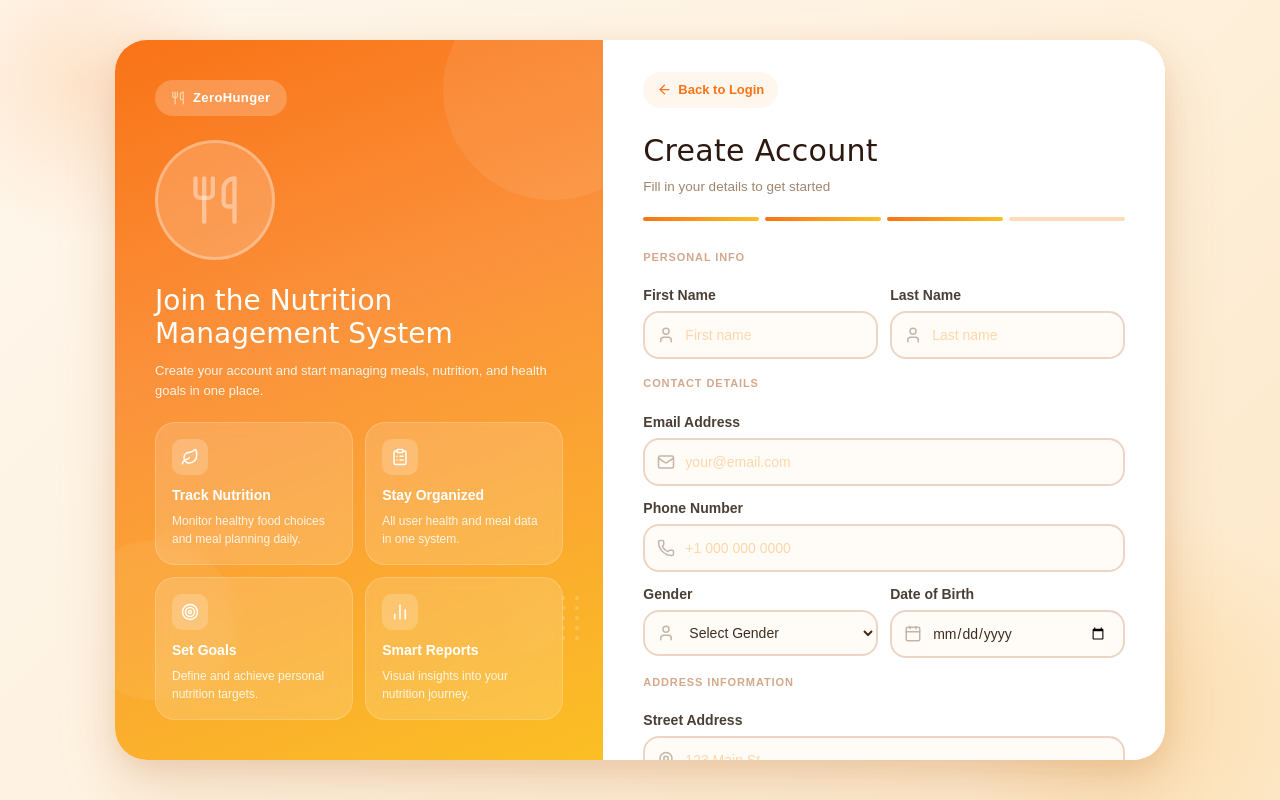
RegisterPage › failed registration shows error from api
This screenshot has width=1280, height=800.
Type "John" into the field with placeholder "First name" at (761, 335), box x1=643 y1=311 x2=878 y2=359
Type "Doe" into the field with placeholder "Last name" at (1008, 335), box x1=890 y1=311 x2=1125 y2=359
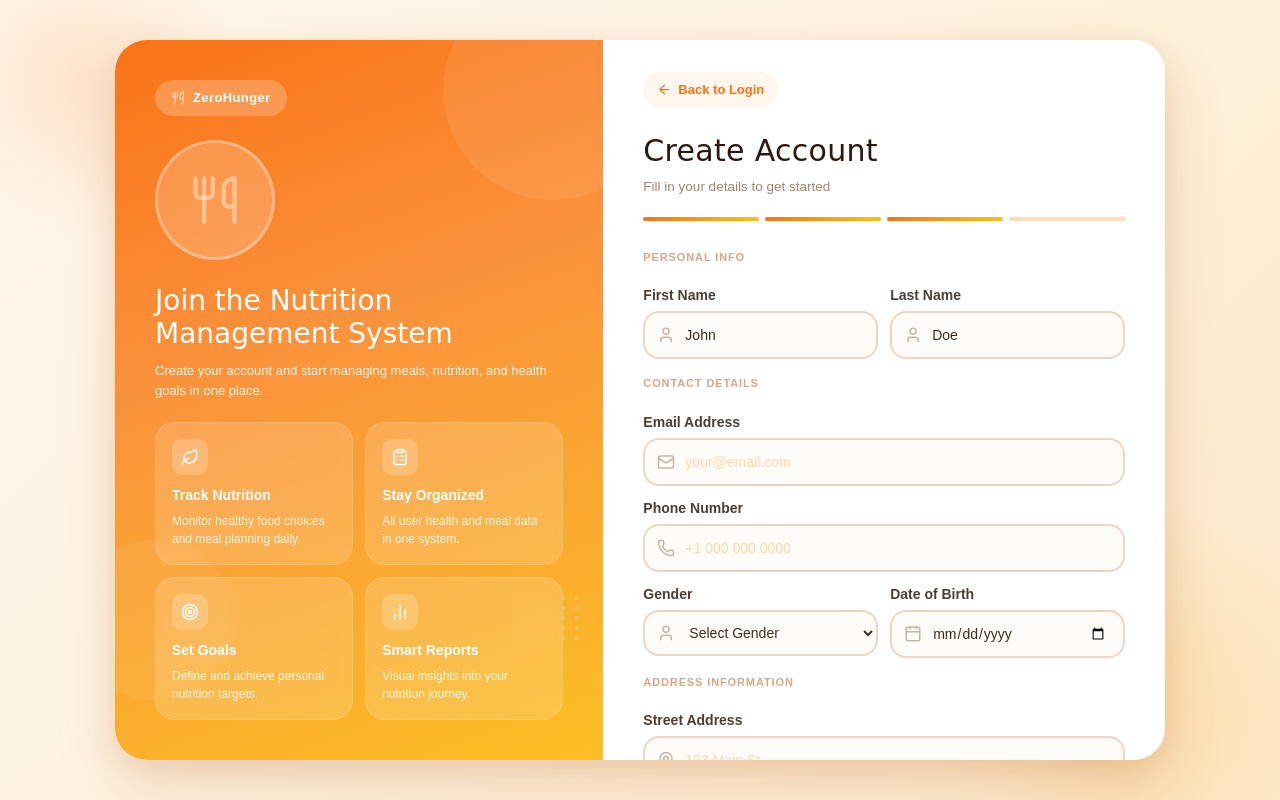
Type "john@mail.com" into the field with placeholder "your@email.com" at (884, 462), box x1=643 y1=438 x2=1125 y2=486
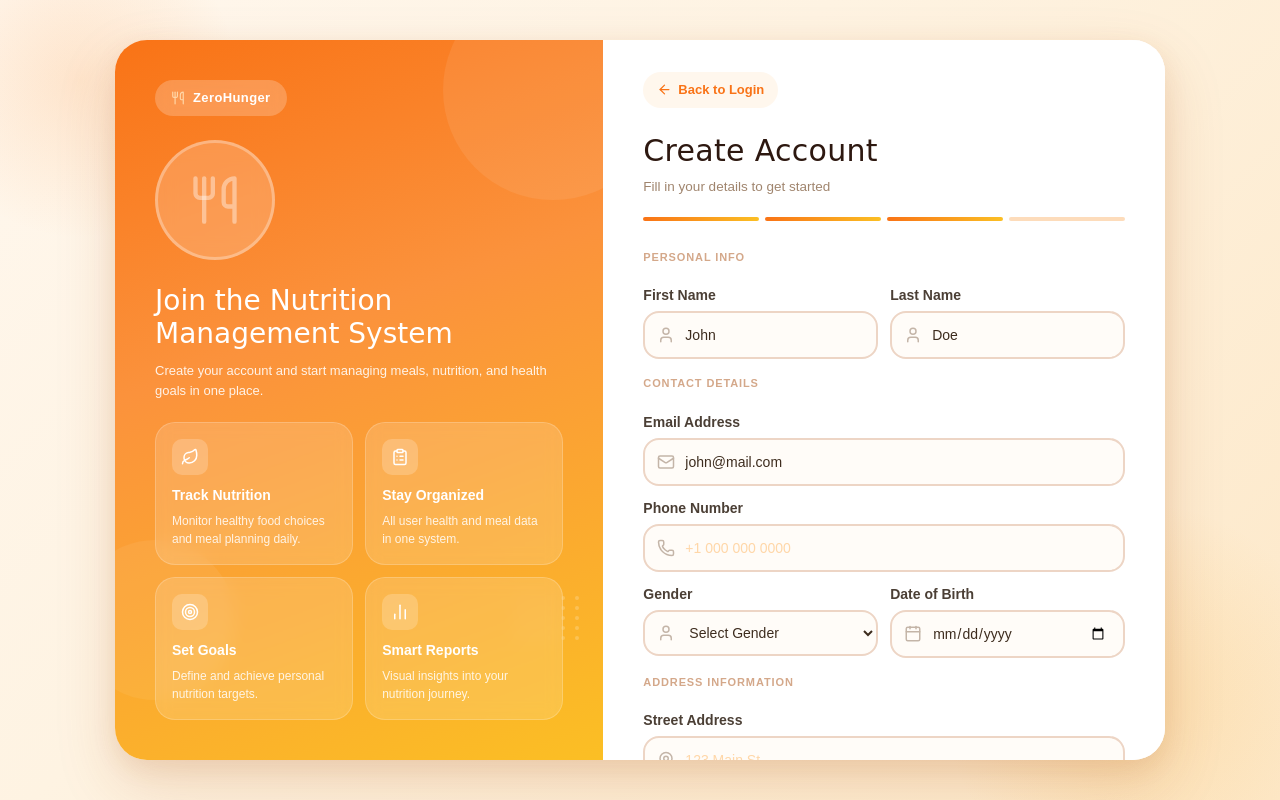
Type "1234567890" into the field with placeholder "+1 000 000 0000" at (884, 548), box x1=643 y1=524 x2=1125 y2=572
(page scrolled)
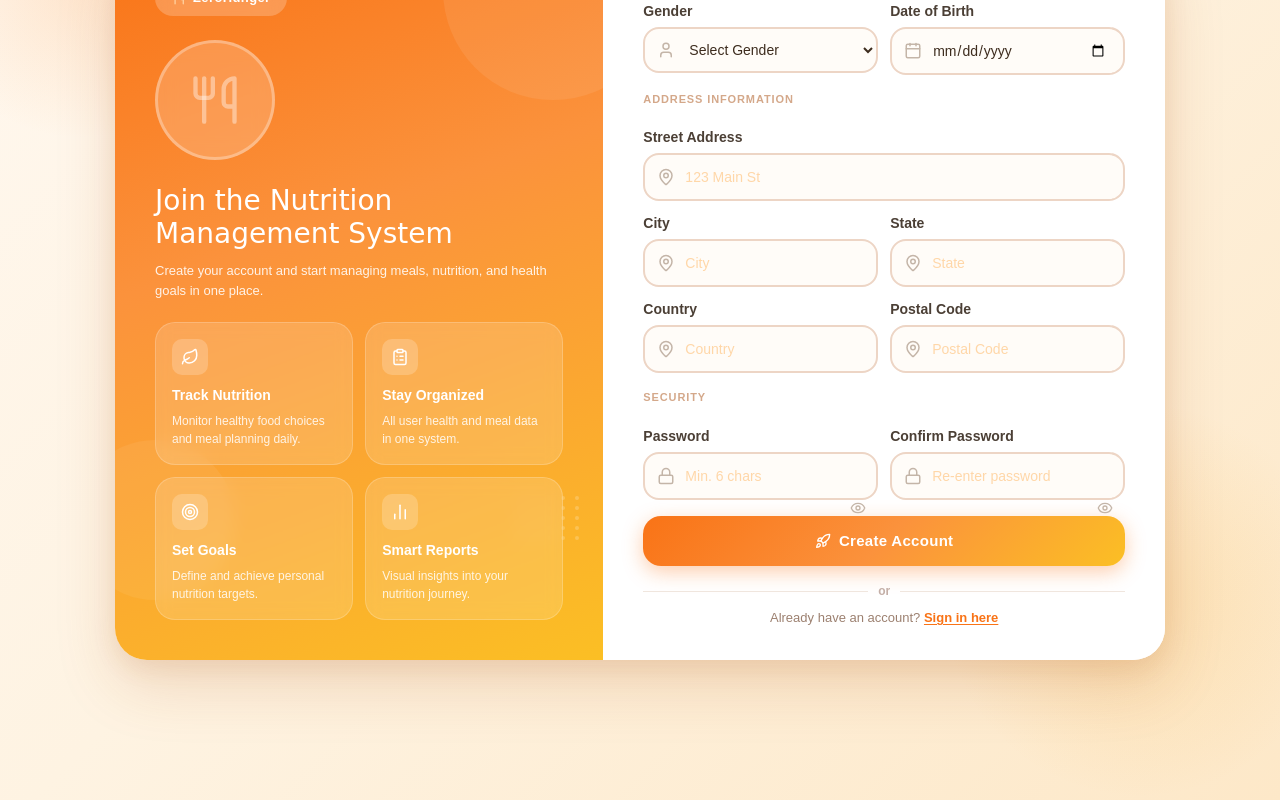
Type "password123" into the password field with placeholder "Min. 6 chars" at (761, 476), box x1=643 y1=452 x2=878 y2=500
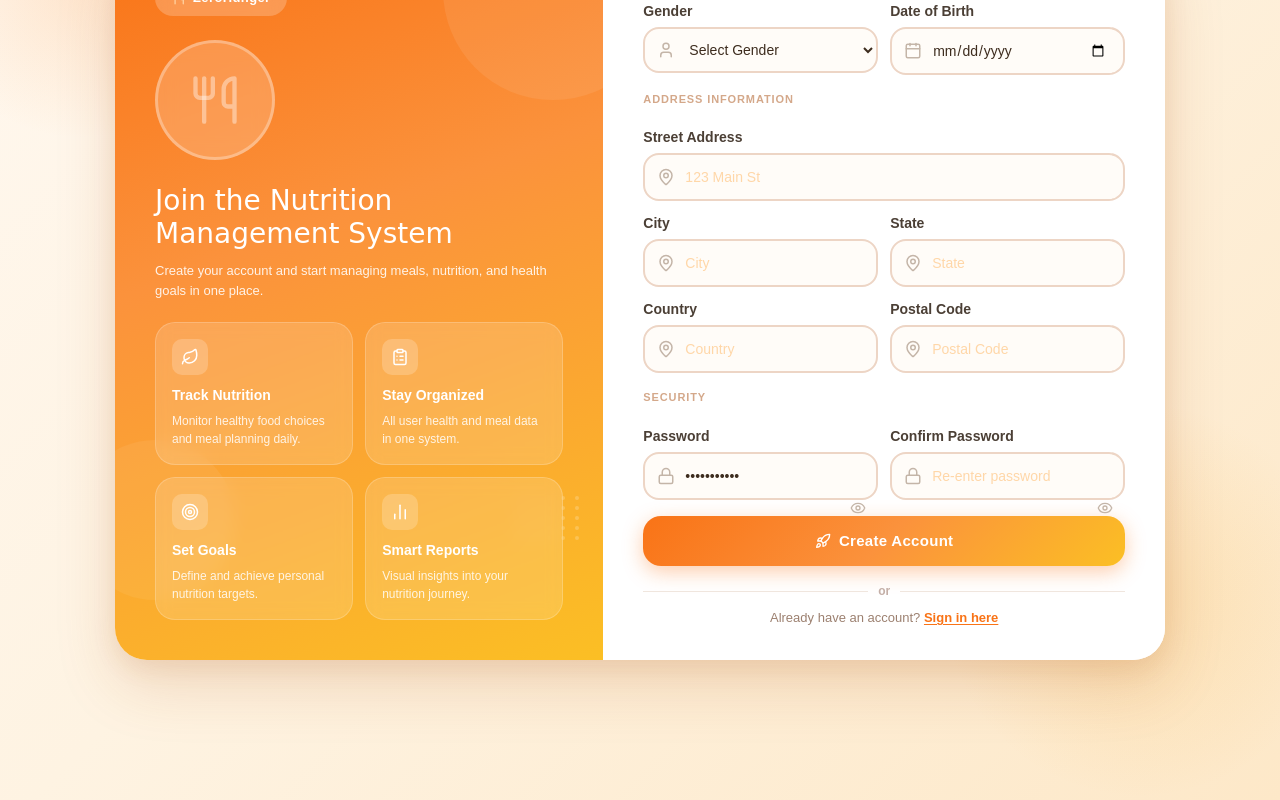
Type "password123" into the password field with placeholder "Re-enter password" at (1008, 476), box x1=890 y1=452 x2=1125 y2=500
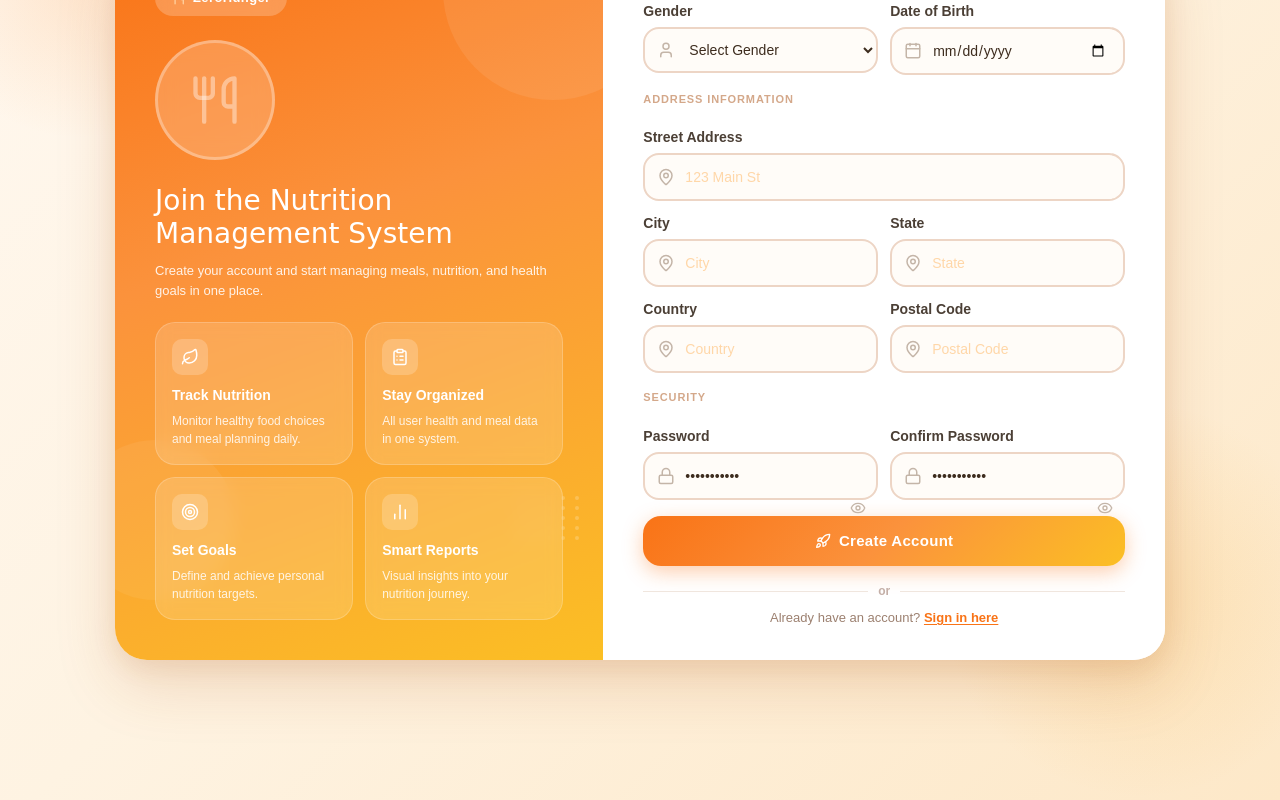
Click the button "Create Account" at (884, 541), box x1=643 y1=516 x2=1125 y2=566
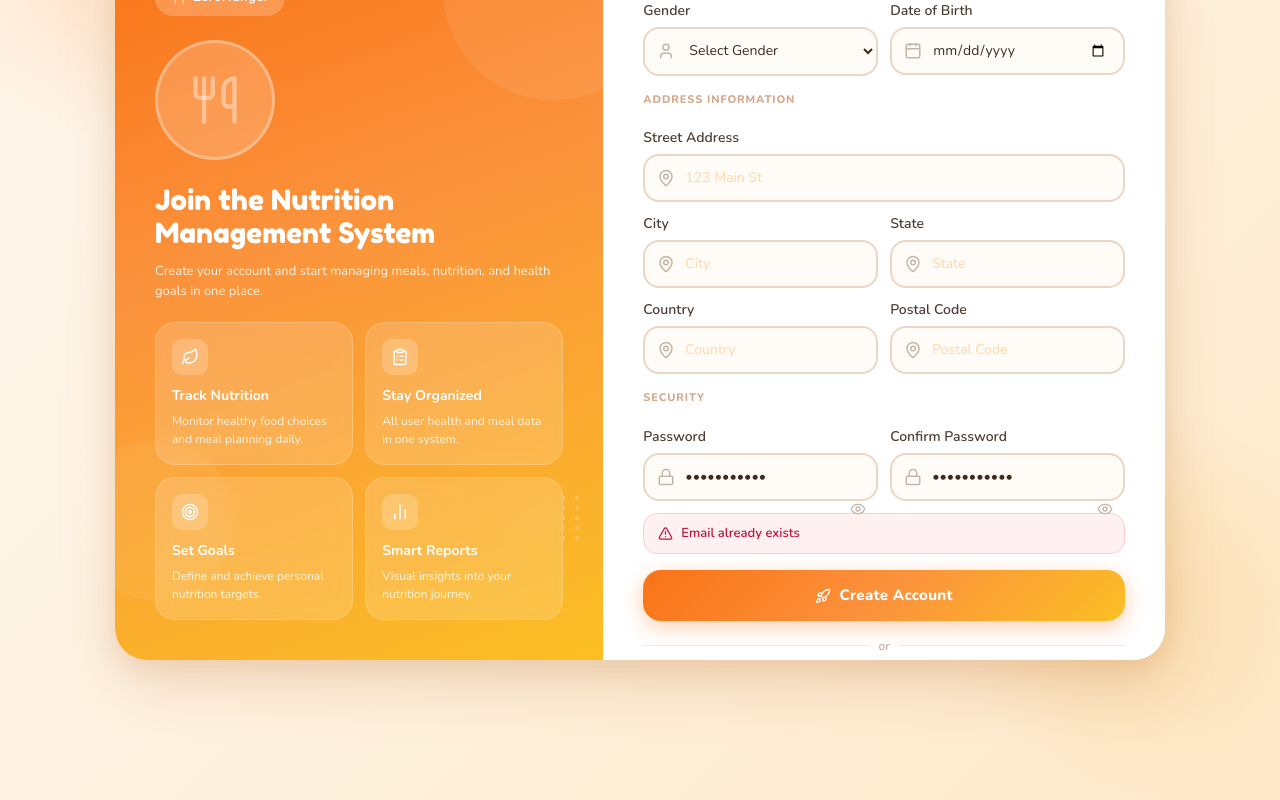
Expected: the text "Email already exists" is shown, x1=681 y1=524 x2=800 y2=543
